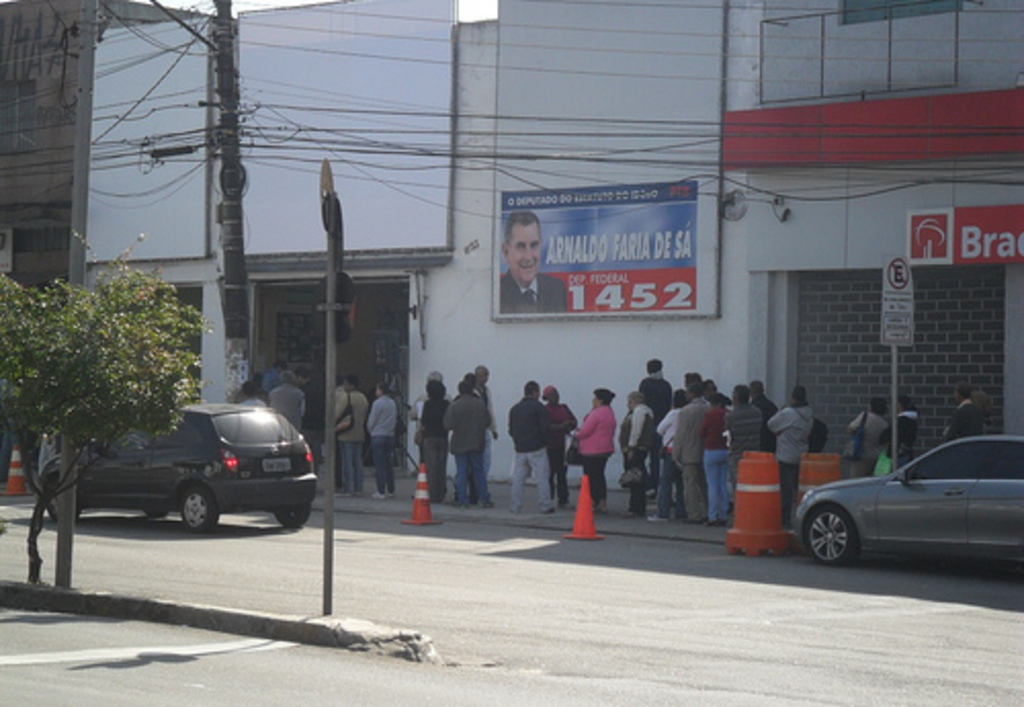Car: (38, 409, 315, 532), (790, 434, 1021, 565)
